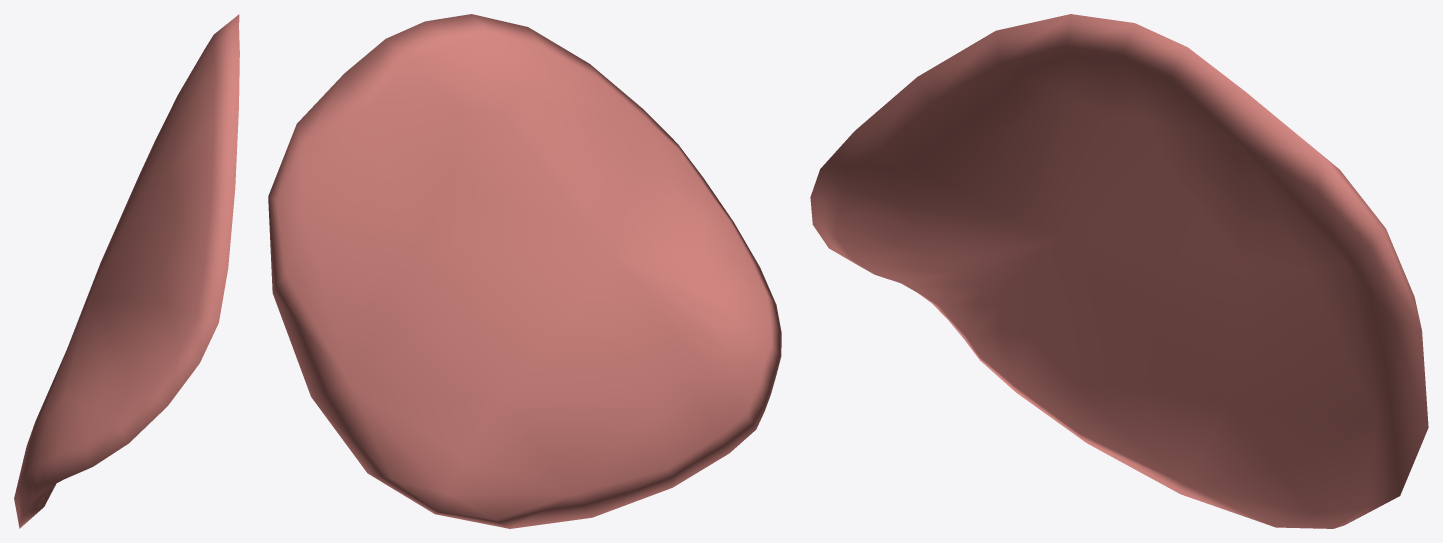
3 renders of one model, left to right at view 1: azimuth 30°, elevation 25°; view 2: azimuth 150°, elevation 25°; view 3: azimuth 270°, elevation 25°, orthographic. The views are drawn at different scales.
Parts seen in each view (by area): view 1: ZA_53a9722e39b107cb; view 2: ZA_53a9722e39b107cb; view 3: ZA_53a9722e39b107cb.
Part boxes in pixels (x1,y1,x2,y2): ZA_53a9722e39b107cb: (14,14,239,528); ZA_53a9722e39b107cb: (268,14,781,528); ZA_53a9722e39b107cb: (810,14,1428,528).
Size of the model in its own units: 0.00493 by 0.006 by 0.00568.
